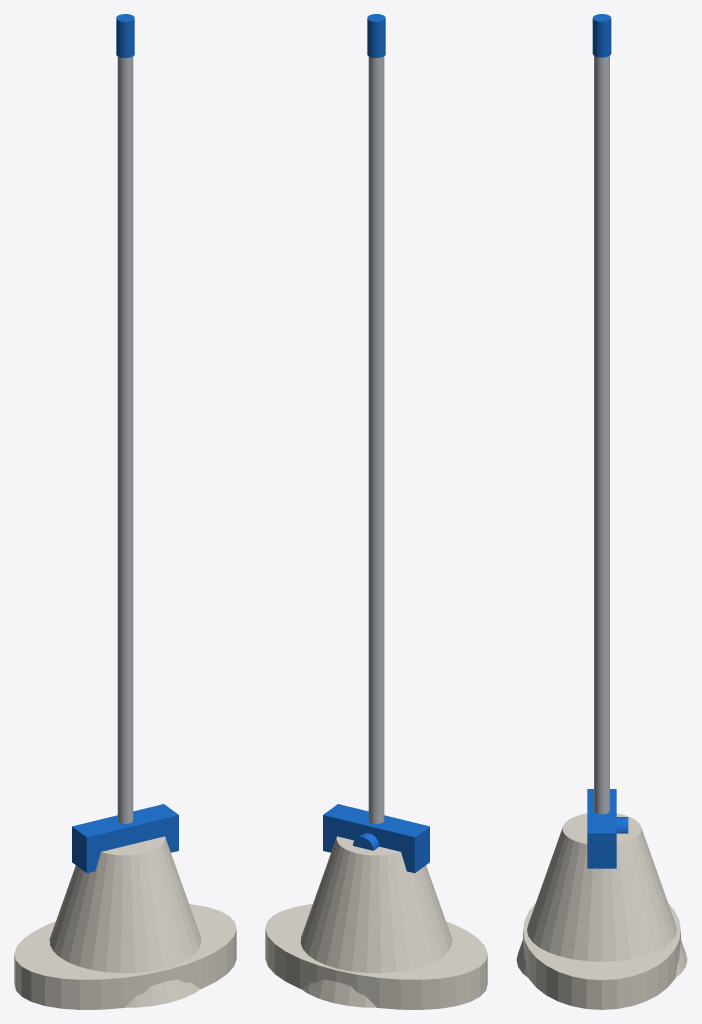
The model's file is Store_Mop.obj.
The picture shows the model from 3 angles, left to right: view 1: azimuth 30°, elevation 25°; view 2: azimuth 150°, elevation 25°; view 3: azimuth 270°, elevation 25°; orthographic projection.
Parts seen in each view (by area): view 1: Cone, Cylinder, Cylinder.003, Cube, Cylinder.001; view 2: Cone, Cylinder, Cylinder.003, Cube, Cylinder.001; view 3: Cone, Cylinder, Cylinder.003, Cube, Cylinder.001.
Boxes of the visible parts, x1,y1,x2,y2 form: Cone: (49,836,201,1007); Cylinder: (117,56,133,823); Cylinder.003: (14,904,236,1009); Cube: (72,804,178,873); Cylinder.001: (116,14,134,57); Cone: (300,836,452,1007); Cylinder: (368,56,384,823); Cylinder.003: (265,904,487,1009); Cube: (323,804,429,873); Cylinder.001: (367,14,385,57); Cone: (516,813,687,977); Cylinder: (594,56,609,814); Cylinder.003: (523,903,680,1009); Cube: (587,789,616,868); Cylinder.001: (592,14,611,57).
Bounding box in the file's own units: 0.36 × 1.58 × 0.26.
